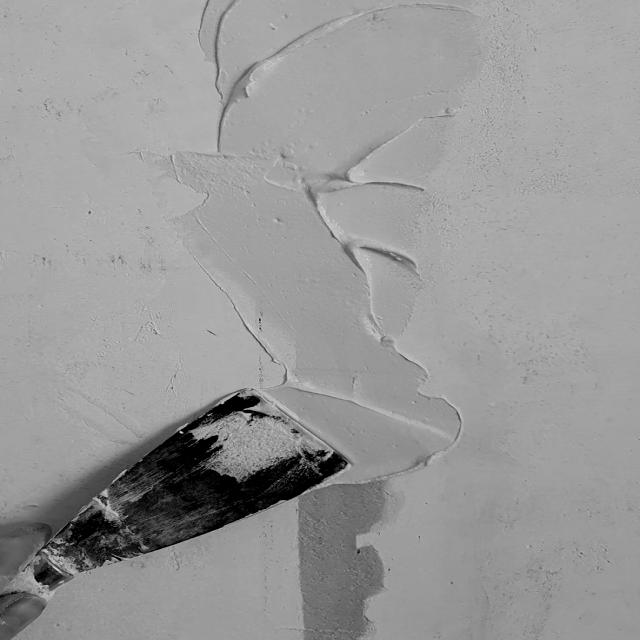trowels marks: (158, 0, 494, 490)
